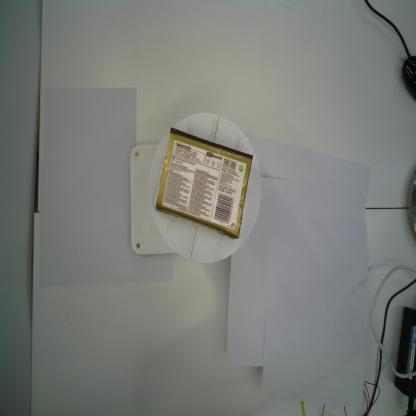Tissue: (153, 126, 254, 240)
